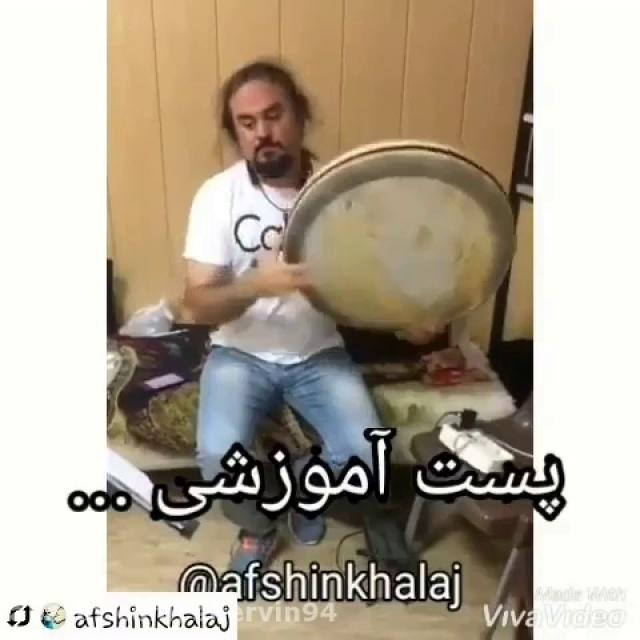Daf: (284, 141, 514, 332)
